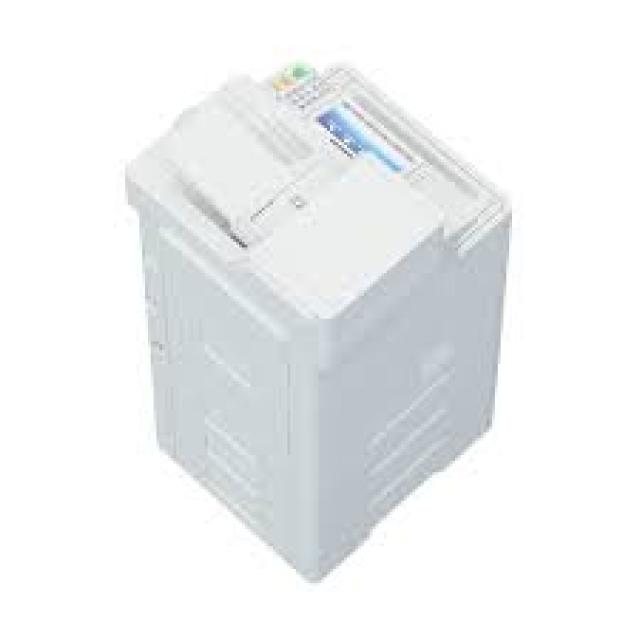printer: (122, 57, 512, 583)
